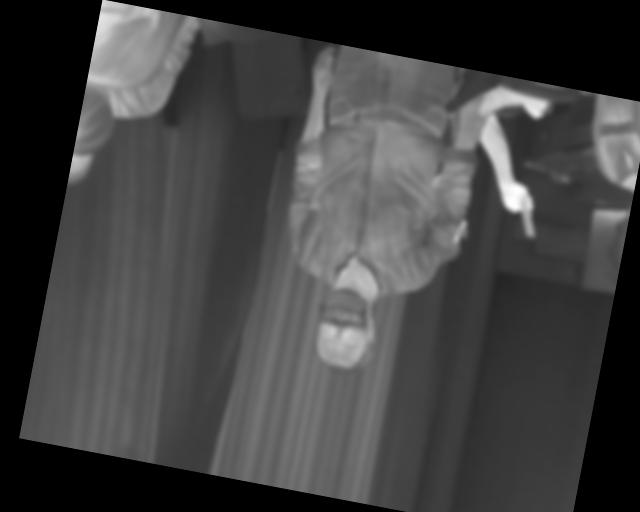face: (306, 283, 385, 379)
